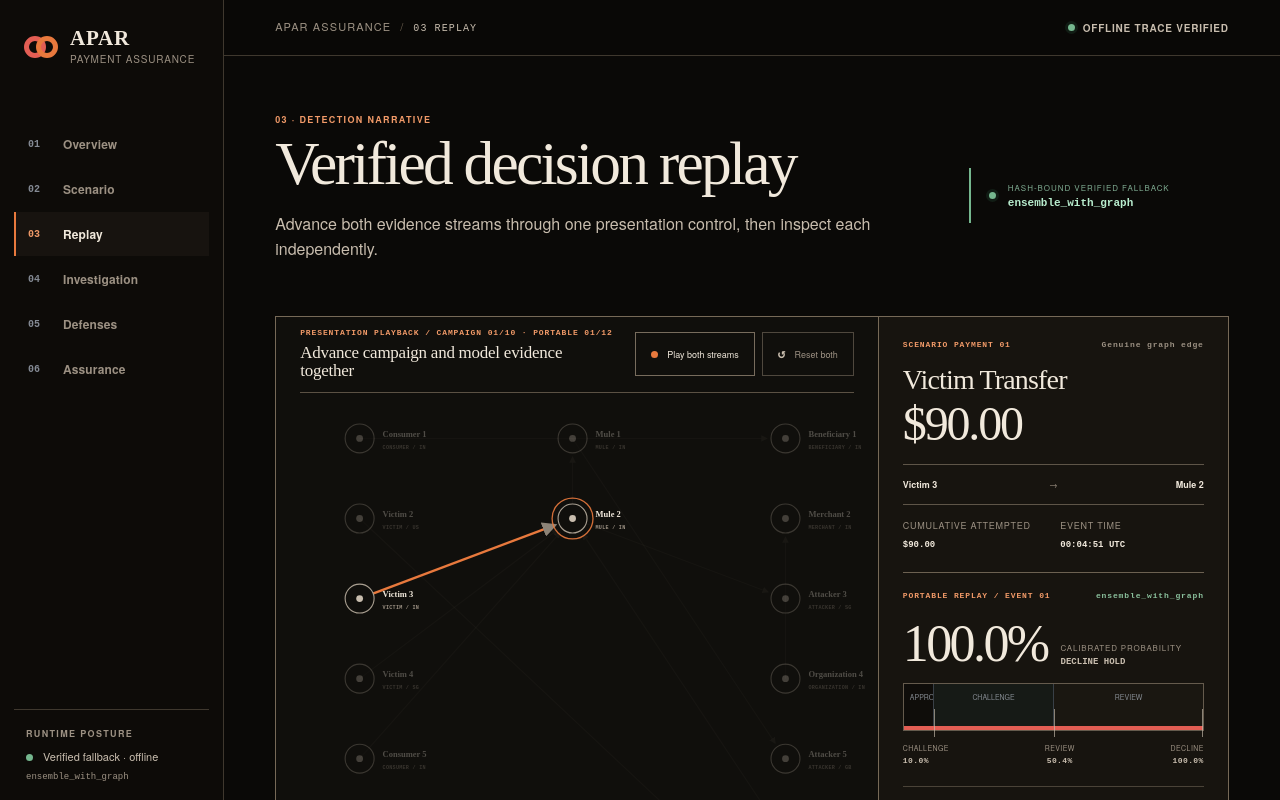
Test: native route boundary › advances both evidence streams from the shared playback control
The image size is (1280, 800).
Click the button "Play both streams": (695, 354) [635,332,755,376]
Wait 901 ms
(page scrolled)
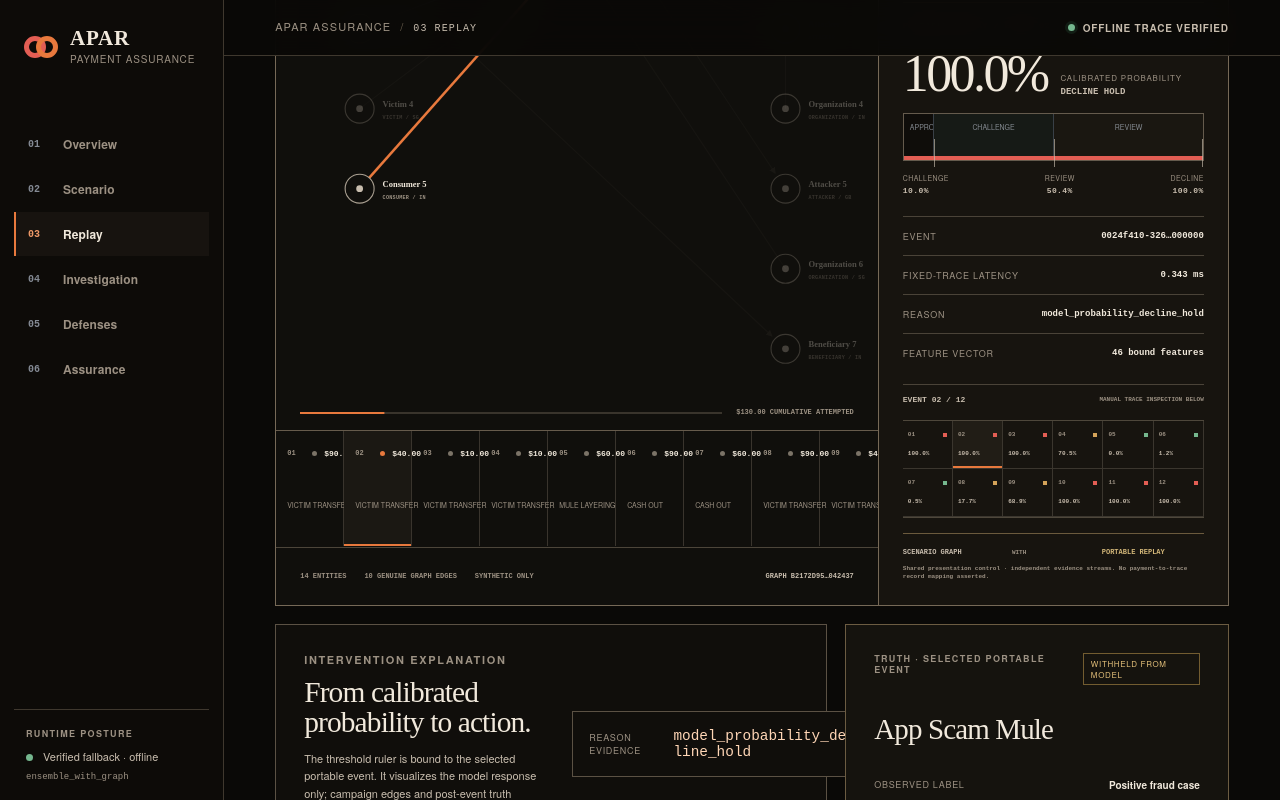
Result: the text "Event 02 / 12" is shown at [903,396,965,404]
